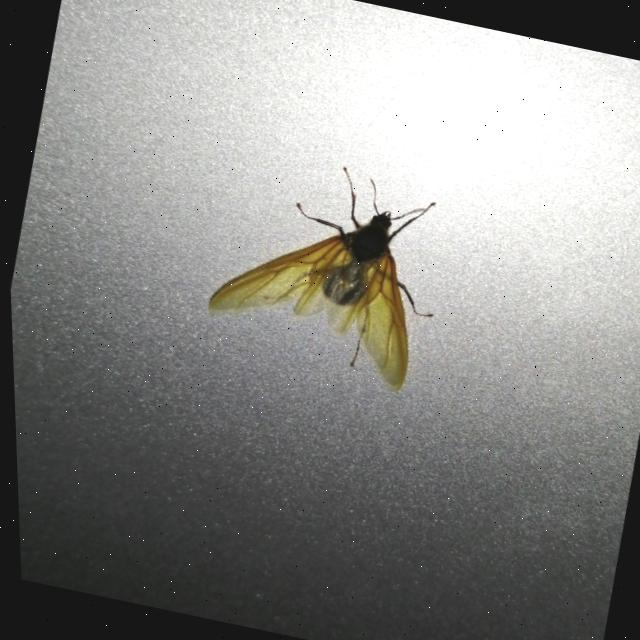Alive-Male-Alate: (191, 143, 459, 397)
